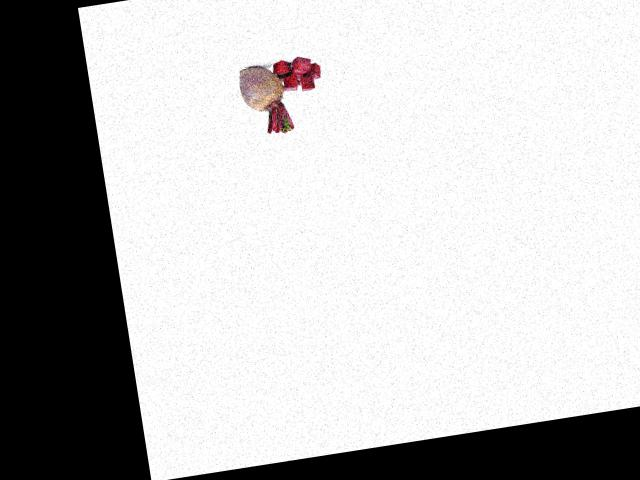beet: (237, 61, 294, 137)
